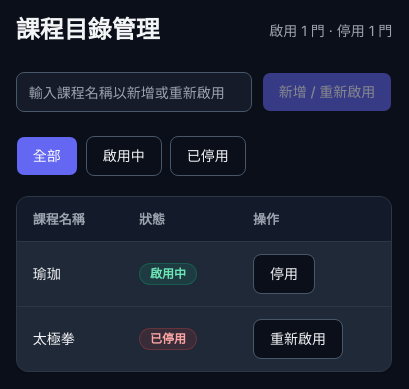
it: CourseManagementTab › filters courses by status
Check: the text "瑜珈" is shown, box [17,242,123,306]
Step 1. Click the button "已停用" → x=208, y=156, box [170,136,246,176]
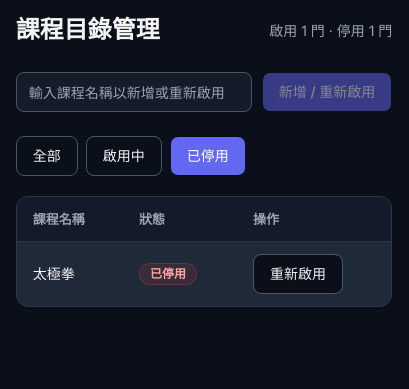
Check: the text "太極拳" is shown, box [17,242,123,306]
Check: the text "瑜珈" is gone
